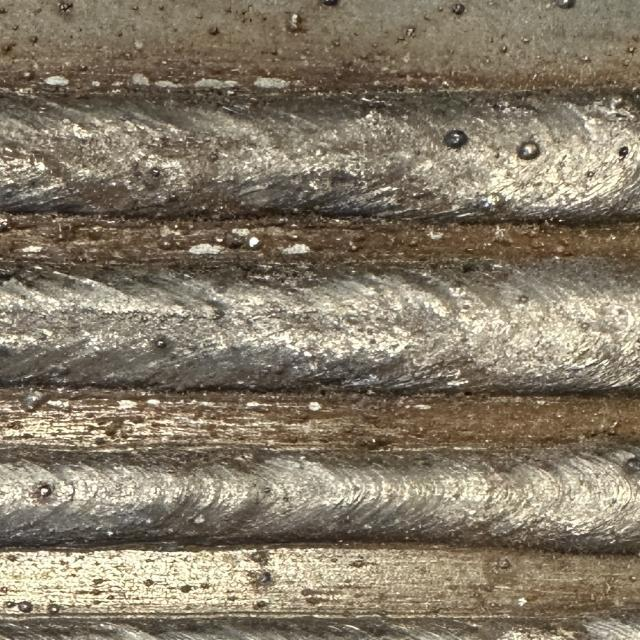Excess Reinforcement: (193, 78, 238, 89), (253, 78, 290, 89), (43, 75, 68, 86), (153, 80, 182, 89), (132, 74, 150, 86)
Spatters: (327, 549, 370, 570), (443, 129, 468, 149), (517, 141, 540, 160), (225, 234, 247, 249), (157, 235, 177, 250), (287, 14, 302, 32), (257, 571, 273, 585), (0, 215, 13, 232), (17, 601, 33, 614), (0, 586, 18, 597), (557, 0, 576, 9), (58, 1, 73, 12), (497, 558, 512, 569), (253, 600, 268, 611), (47, 604, 62, 614), (630, 29, 640, 44), (248, 236, 260, 248), (452, 4, 465, 15), (38, 486, 52, 496), (308, 401, 322, 411), (578, 320, 592, 330), (405, 26, 417, 37), (207, 26, 220, 36), (210, 310, 223, 320), (320, 0, 340, 6), (193, 514, 205, 524), (618, 146, 628, 158), (193, 514, 205, 524), (628, 575, 638, 586), (155, 339, 167, 348), (148, 168, 160, 177), (580, 55, 592, 64), (348, 241, 358, 251), (517, 295, 528, 304), (5, 601, 17, 609), (22, 71, 33, 79), (143, 579, 155, 586), (93, 579, 105, 586), (518, 598, 528, 606), (627, 46, 637, 54), (521, 36, 532, 43), (500, 45, 508, 54), (78, 64, 88, 71), (622, 59, 632, 66), (30, 36, 38, 44), (92, 81, 100, 88), (332, 39, 340, 46), (242, 11, 247, 21), (93, 590, 103, 595), (93, 599, 102, 604), (612, 421, 618, 428), (107, 594, 115, 599), (132, 6, 138, 11), (225, 8, 232, 12)
